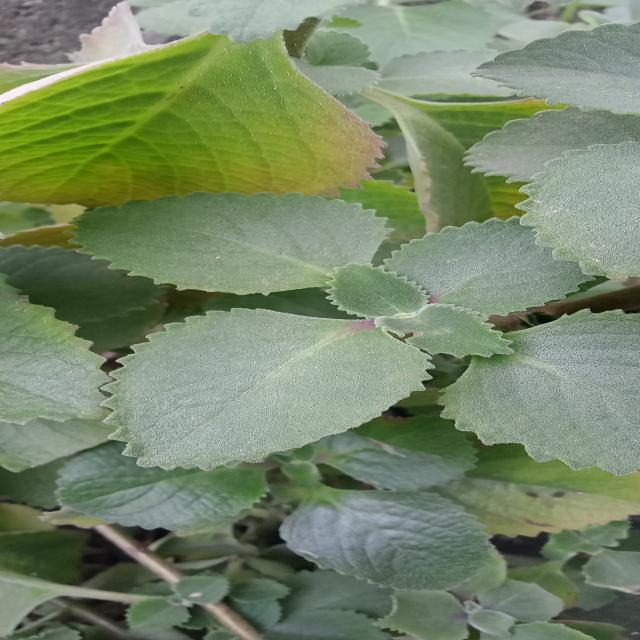Oregano: (53, 172, 609, 472)
